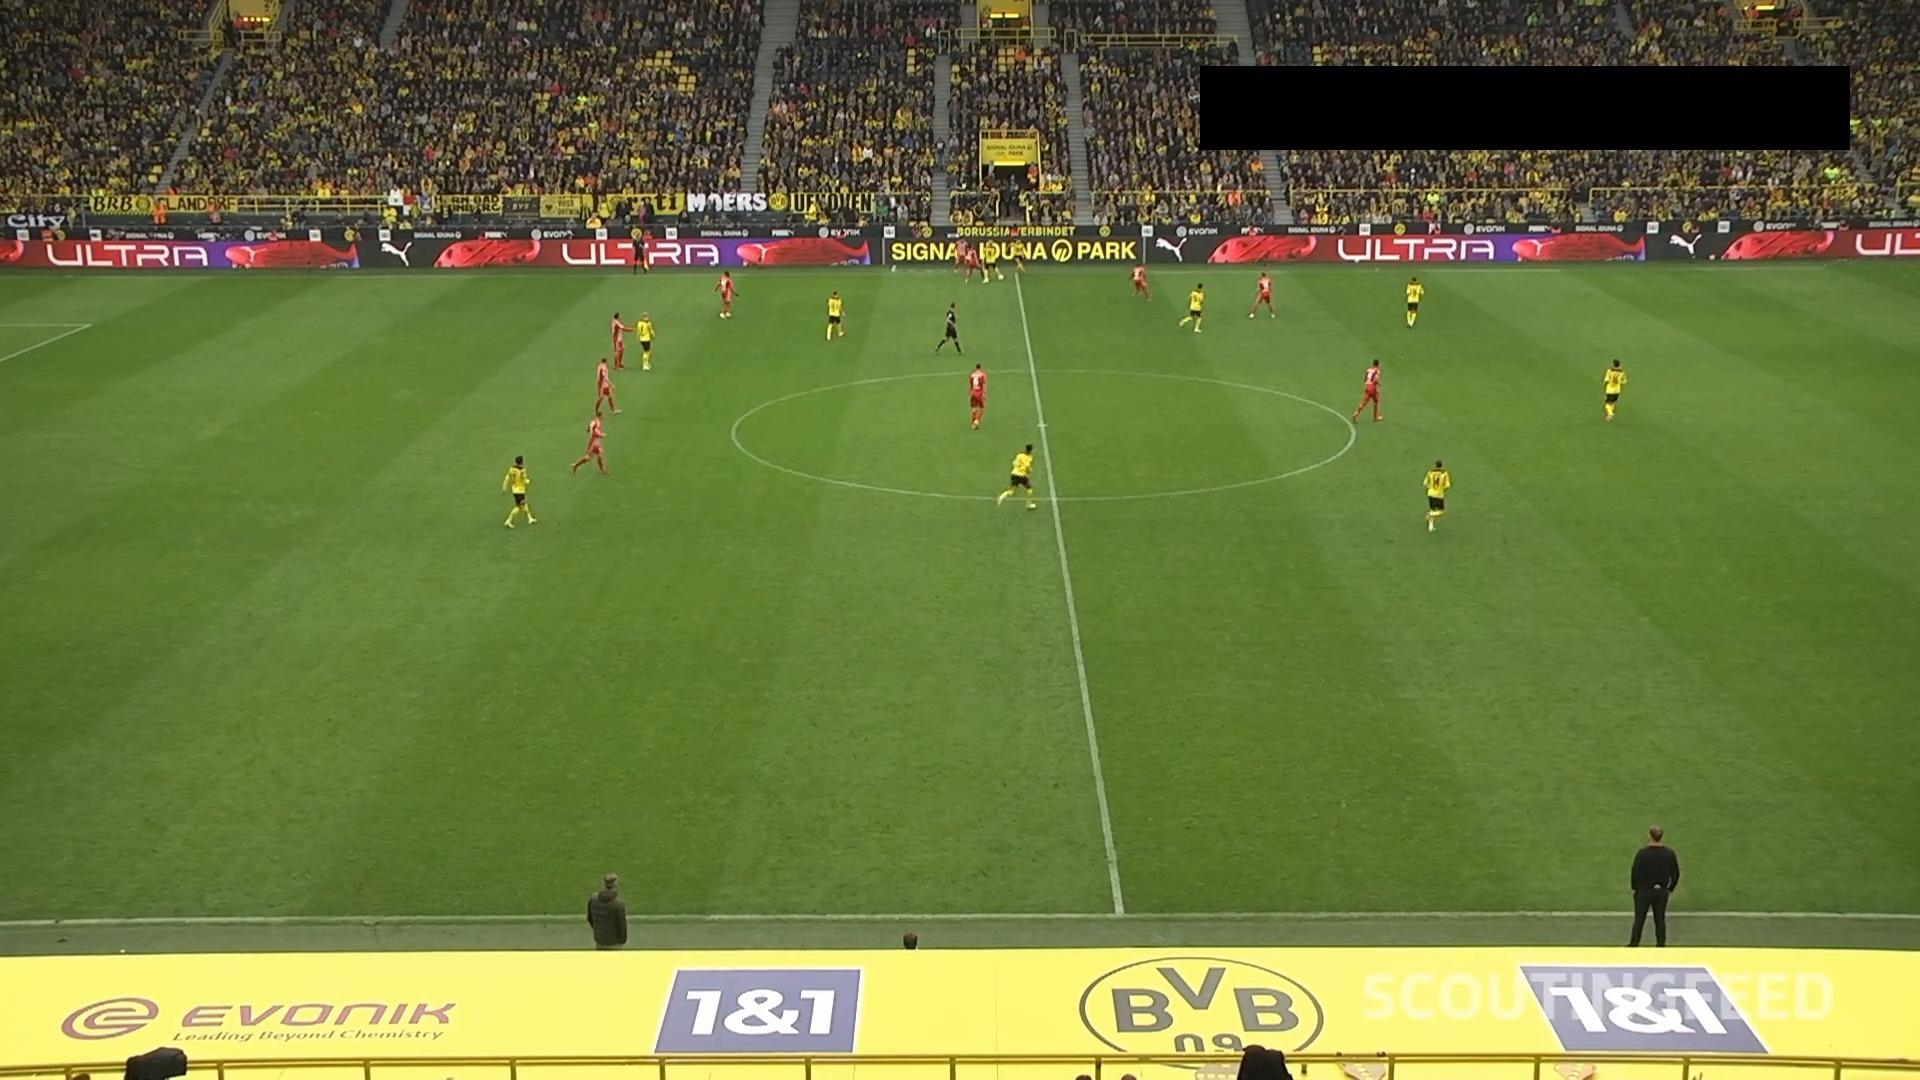ball: (996, 272, 1005, 283)
